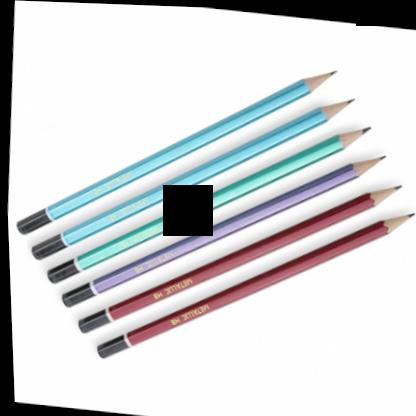pencil: (9, 67, 340, 237), (38, 123, 376, 287), (22, 96, 356, 261), (52, 152, 388, 307), (71, 181, 404, 334), (88, 206, 416, 360)
